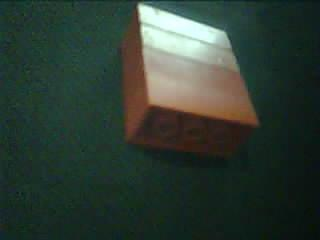lego: (117, 2, 260, 161)
